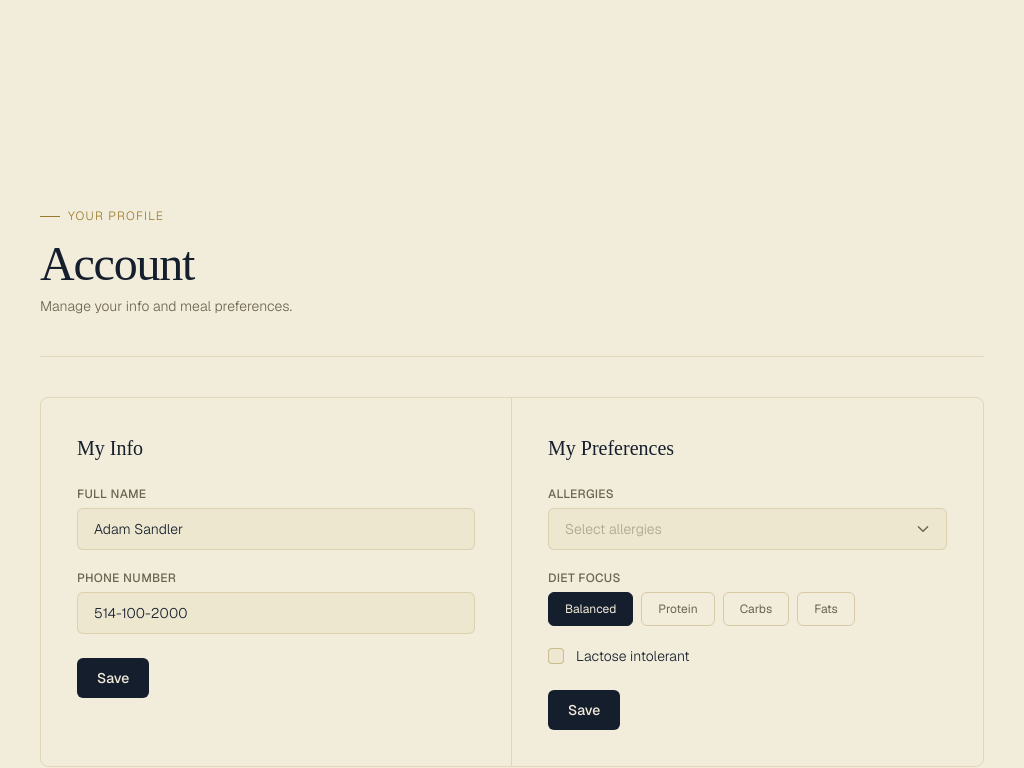
it: AccountClient › shows error message on failed profile save
The image size is (1024, 768).
Step 1. Click the button "Save" below "Phone number" → [113, 678], box [77,658,149,698]
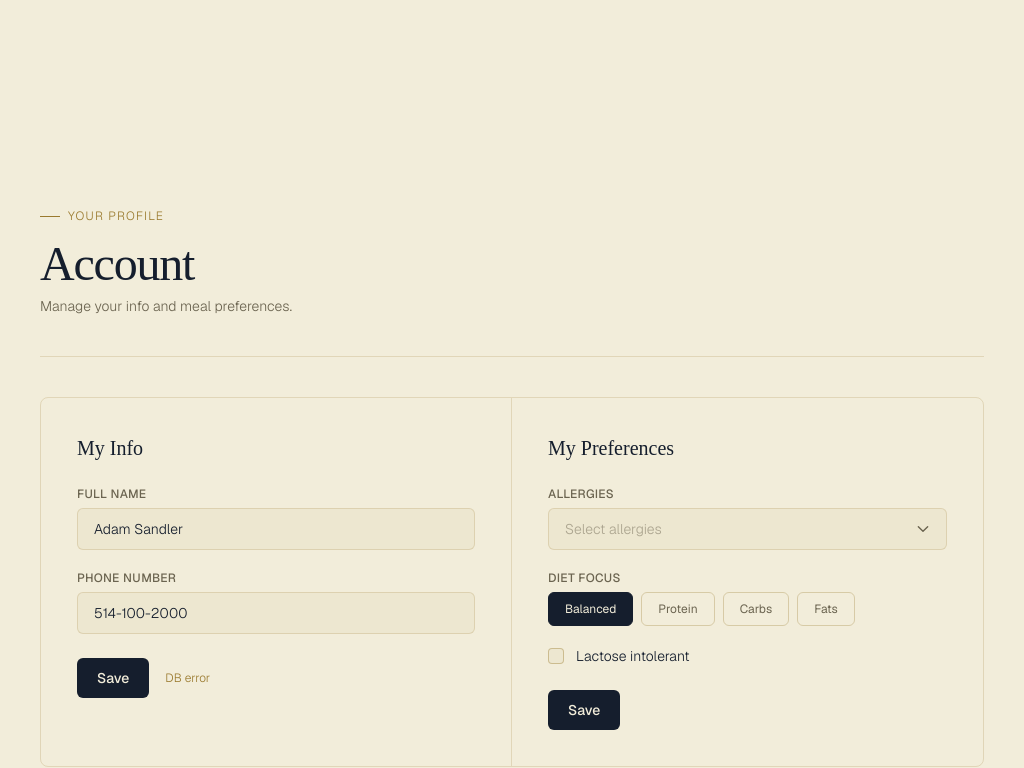
Expected: the text "DB error" is shown, [165,670,210,686]
